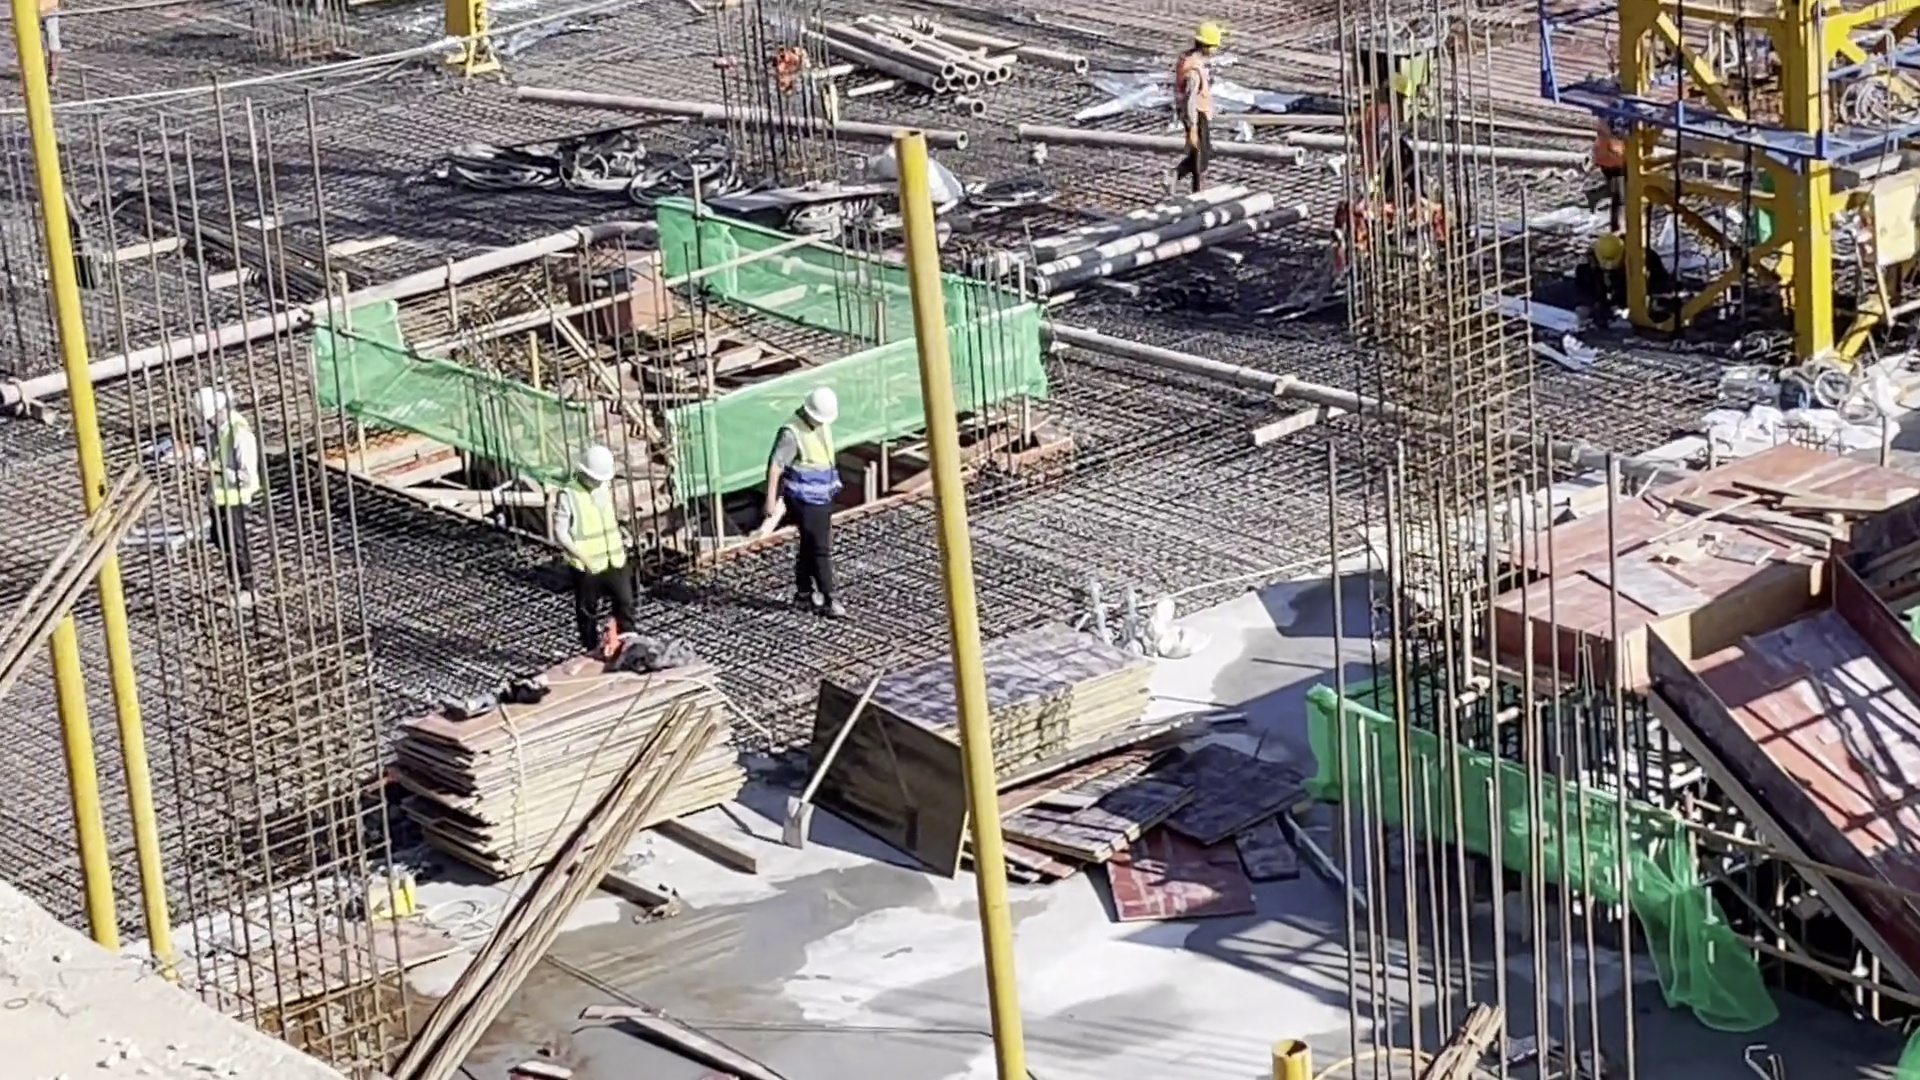helmet: (573, 438, 624, 484), (799, 386, 841, 420), (189, 390, 229, 419), (1599, 231, 1626, 264), (1388, 73, 1415, 103), (1192, 24, 1221, 47)
person: (760, 383, 856, 617), (554, 441, 658, 645), (184, 387, 275, 609), (1575, 228, 1686, 327), (1169, 24, 1228, 189), (1355, 69, 1414, 197), (1578, 108, 1629, 234)
vest: (189, 413, 259, 503), (558, 488, 629, 575), (784, 420, 839, 502), (1181, 54, 1211, 130)
